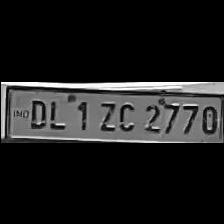0: (197, 102, 219, 134)
1: (69, 97, 91, 131)
2: (139, 99, 161, 133)
7: (176, 100, 198, 134), (160, 99, 178, 133)
C: (116, 99, 136, 131)
D: (26, 96, 46, 128)
L: (45, 96, 65, 130)
Z: (93, 98, 117, 132)
